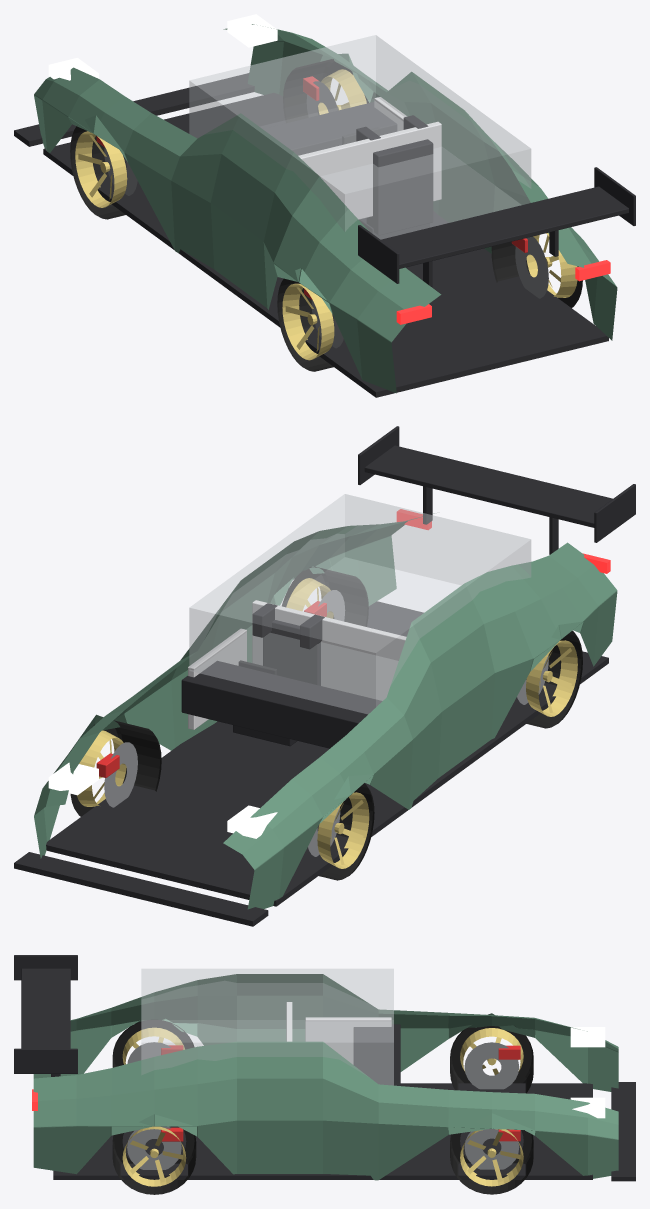
The model's file is Car_Aston_Martin_DBR9_2000s_Complete.glb.
3 renders of one model, top to bottom at view 1: azimuth 30°, elevation 25°; view 2: azimuth 150°, elevation 25°; view 3: azimuth 270°, elevation 25°, orthographic. The views are drawn at different scales.
Visible parts, largest first — view 1: BODY_Aston_DBR9_MainShell, GLASS_Aston_DBR9, CHASSIS_FlatFloor, AERO_Aston_DBR9_RearWing, INTERIOR_RaceBucketSeat, INTERIOR_RollCage, INTERIOR_Dashboard, AERO_Aston_DBR9_Splitter, WHEEL_RR_Rim, WHEEL_FR_Rim, LIGHT_Aston_DBR9_Headlights, WHEEL_FL_Tire (+8 smaller); view 2: BODY_Aston_DBR9_MainShell, GLASS_Aston_DBR9, CHASSIS_FlatFloor, AERO_Aston_DBR9_RearWing, INTERIOR_Dashboard, INTERIOR_RollCage, AERO_Aston_DBR9_Splitter, INTERIOR_RaceBucketSeat, WHEEL_FR_Rim, WHEEL_RR_Rim, WHEEL_FL_Tire, LIGHT_Aston_DBR9_Headlights (+7 smaller); view 3: BODY_Aston_DBR9_MainShell, GLASS_Aston_DBR9, CHASSIS_FlatFloor, AERO_Aston_DBR9_RearWing, INTERIOR_Dashboard, INTERIOR_RollCage, AERO_Aston_DBR9_Splitter, BRAKE_FR_Rotor, WHEEL_FR_Tire, WHEEL_FL_Tire, WHEEL_RL_Tire, WHEEL_RL_Rim (+8 smaller).
Boxes of the visible parts, bbox=[...] form: BODY_Aston_DBR9_MainShell: bbox=[34, 24, 617, 393]; GLASS_Aston_DBR9: bbox=[189, 35, 531, 239]; CHASSIS_FlatFloor: bbox=[43, 93, 608, 397]; AERO_Aston_DBR9_RearWing: bbox=[358, 167, 635, 286]; INTERIOR_RaceBucketSeat: bbox=[356, 115, 433, 239]; INTERIOR_RollCage: bbox=[298, 97, 441, 219]; INTERIOR_Dashboard: bbox=[263, 102, 397, 155]; AERO_Aston_DBR9_Splitter: bbox=[14, 73, 254, 146]; WHEEL_RR_Rim: bbox=[282, 283, 334, 360]; WHEEL_FR_Rim: bbox=[75, 131, 127, 207]; LIGHT_Aston_DBR9_Headlights: bbox=[48, 14, 277, 80]; WHEEL_FL_Tire: bbox=[283, 59, 368, 122]; BODY_Aston_DBR9_MainShell: bbox=[34, 513, 617, 909]; GLASS_Aston_DBR9: bbox=[189, 494, 531, 714]; CHASSIS_FlatFloor: bbox=[46, 601, 608, 906]; AERO_Aston_DBR9_RearWing: bbox=[358, 426, 635, 554]; INTERIOR_Dashboard: bbox=[181, 661, 382, 748]; INTERIOR_RollCage: bbox=[188, 600, 406, 729]; AERO_Aston_DBR9_Splitter: bbox=[14, 852, 268, 926]; INTERIOR_RaceBucketSeat: bbox=[233, 603, 324, 746]; WHEEL_FR_Rim: bbox=[317, 792, 369, 868]; WHEEL_RR_Rim: bbox=[526, 640, 577, 716]; WHEEL_FL_Tire: bbox=[70, 720, 161, 816]; LIGHT_Aston_DBR9_Headlights: bbox=[48, 762, 277, 838]; BODY_Aston_DBR9_MainShell: bbox=[33, 974, 618, 1180]; GLASS_Aston_DBR9: bbox=[141, 968, 393, 1085]; CHASSIS_FlatFloor: bbox=[53, 1083, 592, 1179]; AERO_Aston_DBR9_RearWing: bbox=[14, 955, 77, 1076]; INTERIOR_Dashboard: bbox=[353, 1024, 400, 1085]; INTERIOR_RollCage: bbox=[286, 1002, 391, 1064]; AERO_Aston_DBR9_Splitter: bbox=[611, 1082, 635, 1181]; BRAKE_FR_Rotor: bbox=[464, 1042, 519, 1089]; WHEEL_FR_Tire: bbox=[450, 1026, 533, 1093]; WHEEL_FL_Tire: bbox=[450, 1130, 533, 1194]; WHEEL_RL_Tire: bbox=[112, 1129, 196, 1194]; WHEEL_RL_Rim: bbox=[122, 1126, 186, 1186].
Bounding box in the file's own units: 2 × 1.28 × 5.05.
